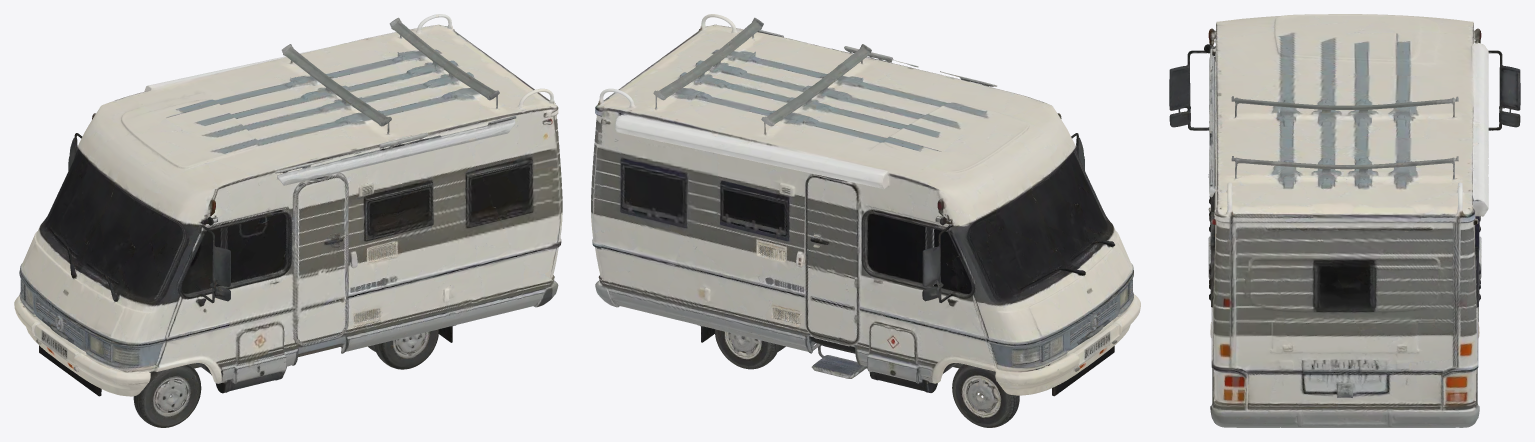
The model's file is motor-home-shrink.glb.
The picture shows the model from 3 angles, left to right: view 1: azimuth 30°, elevation 25°; view 2: azimuth 150°, elevation 25°; view 3: azimuth 270°, elevation 25°; orthographic projection. The views are drawn at different scales.
Visible parts, largest first — view 1: motor home; view 2: motor home; view 3: motor home.
Part boxes in pixels (box(x1,y1,x2,y2)): motor home: box(14, 14, 562, 427); motor home: box(591, 14, 1140, 427); motor home: box(1169, 14, 1520, 427).
Bounding box in the file's own units: 190 × 103 × 112.
1 material, 1 textured.
